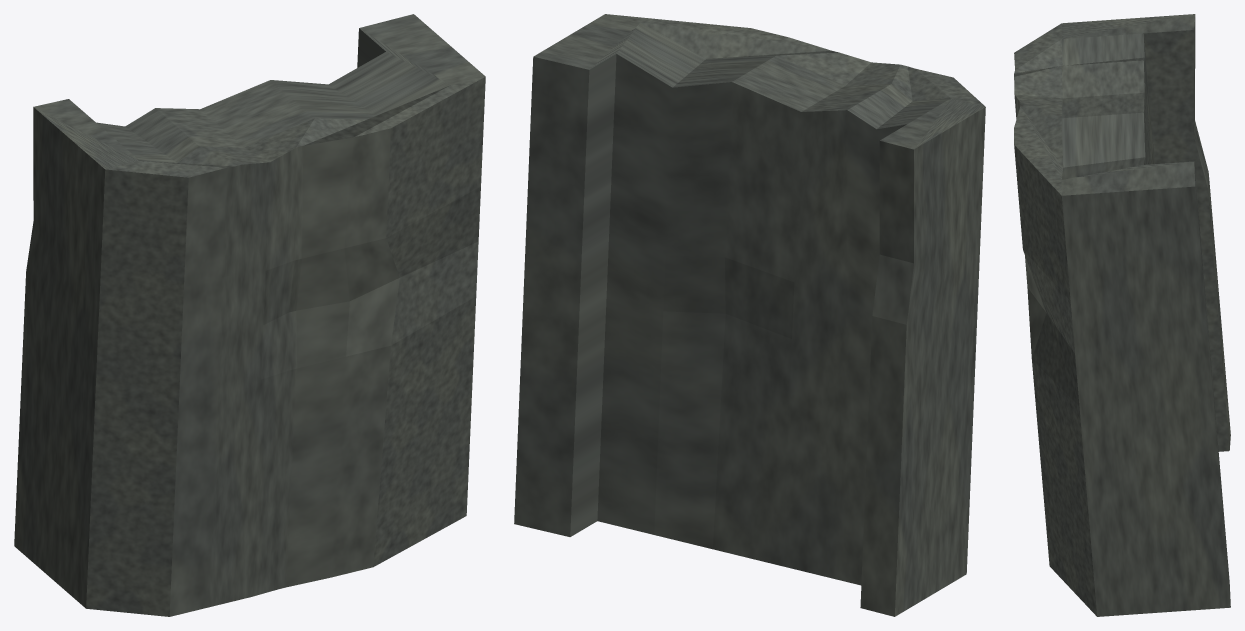
File: BrokenBridge.fbx
The picture shows the model from 3 angles, left to right: view 1: azimuth 30°, elevation 25°; view 2: azimuth 150°, elevation 25°; view 3: azimuth 270°, elevation 25°; orthographic projection. The views are drawn at different scales.
Parts seen in each view (by area): view 1: Subway Cabin.007; view 2: Subway Cabin.007; view 3: Subway Cabin.007.
Part boxes in pixels (left/top/right/bottom): Subway Cabin.007: left=14, top=14, right=485, bottom=616; Subway Cabin.007: left=514, top=14, right=985, bottom=616; Subway Cabin.007: left=1014, top=14, right=1230, bottom=616.
Bounding box in the file's own units: 1218 × 1427 × 647.
